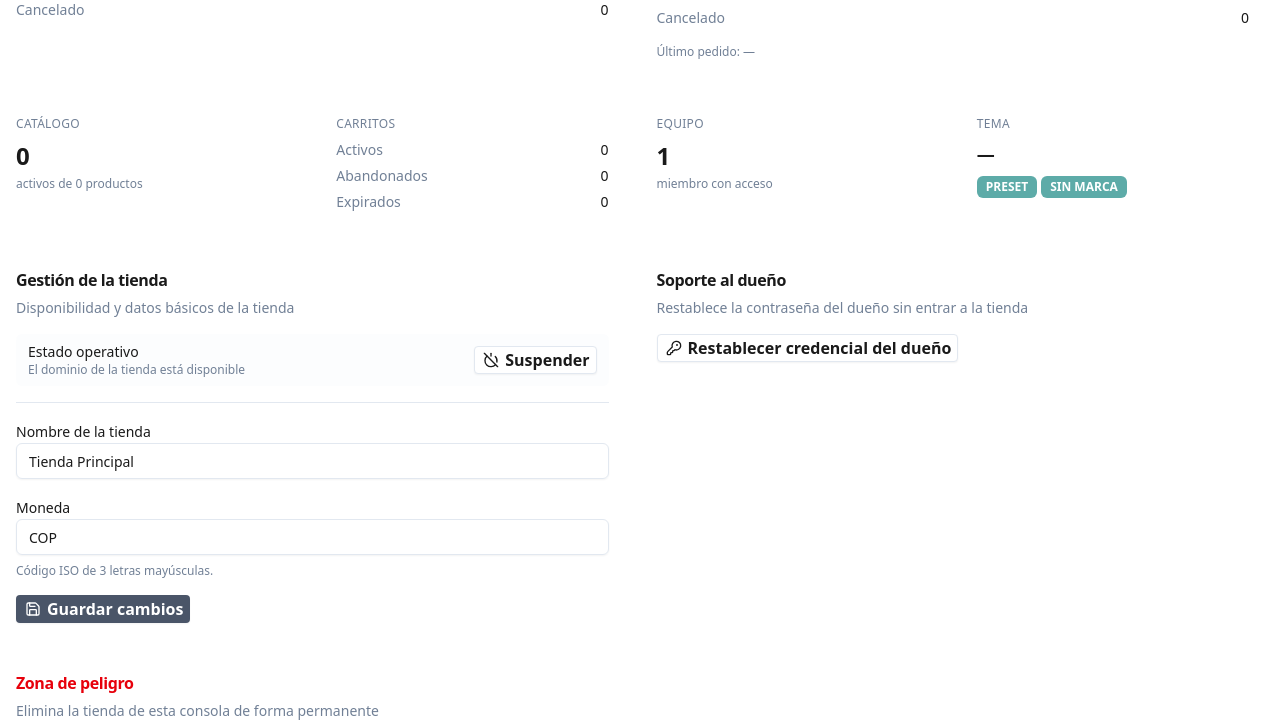
Test case: TenantSettingsForm (D7b) › rejects an invalid currency client-side before ever calling the action
This screenshot has width=1280, height=726.
(page scrolled)
Type "pesos" into the field labelled "Moneda" at (312, 537), box 16,519 -> 608,555
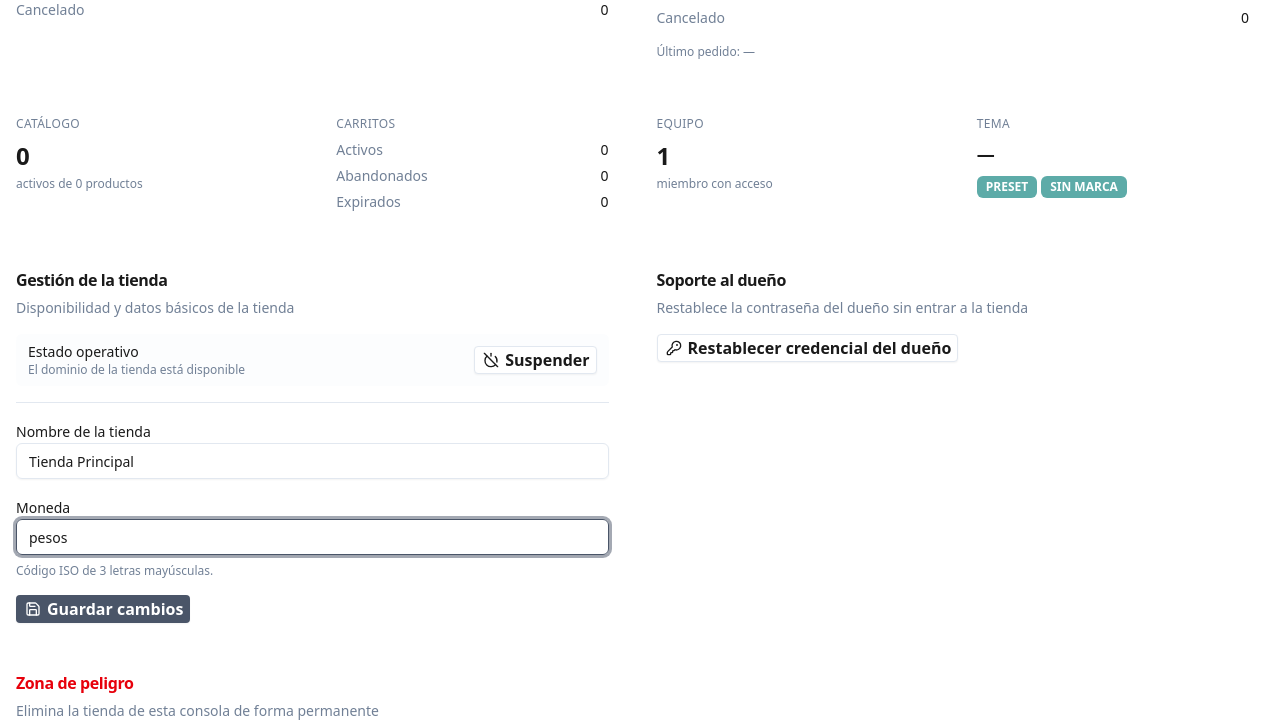
Click the button "Guardar cambios" at (103, 609), box 16,595 -> 190,623
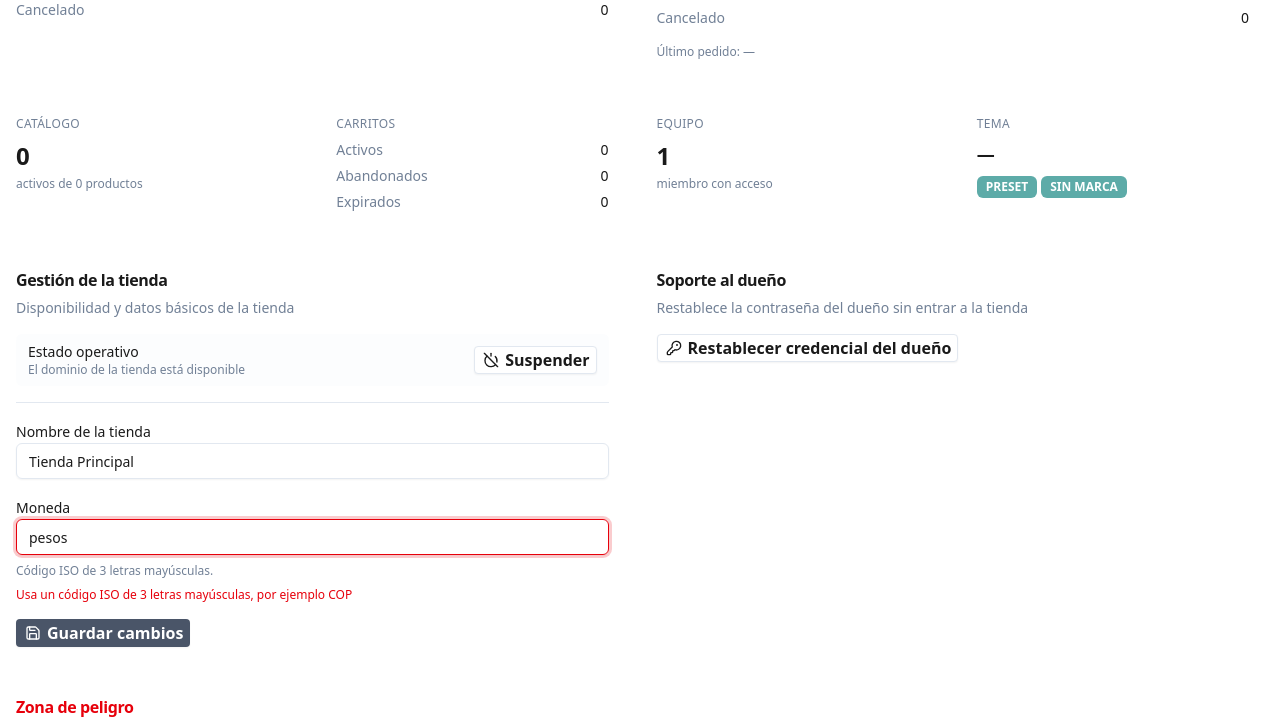
Expected: the text "Usa un código ISO de 3 letras mayúsculas, por ejemplo COP" is shown, 16,586 -> 352,603
